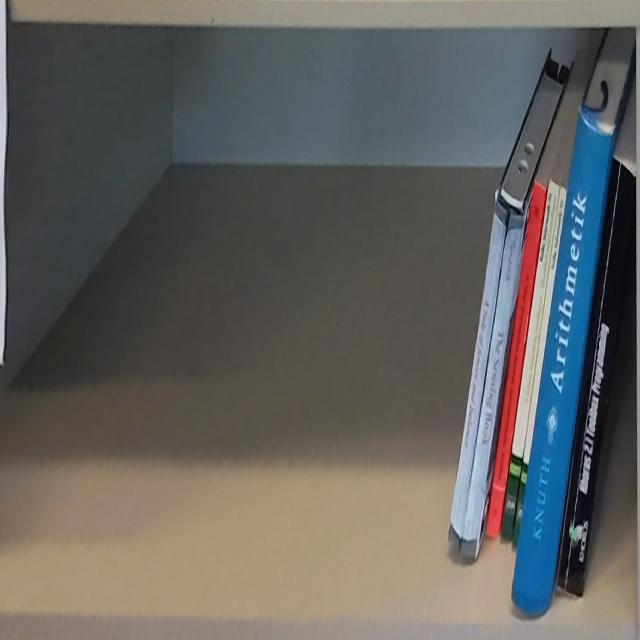Book Spine: (510, 109, 612, 616), (556, 155, 635, 599), (447, 195, 526, 561), (501, 178, 561, 540), (487, 182, 546, 540), (513, 185, 568, 550)
